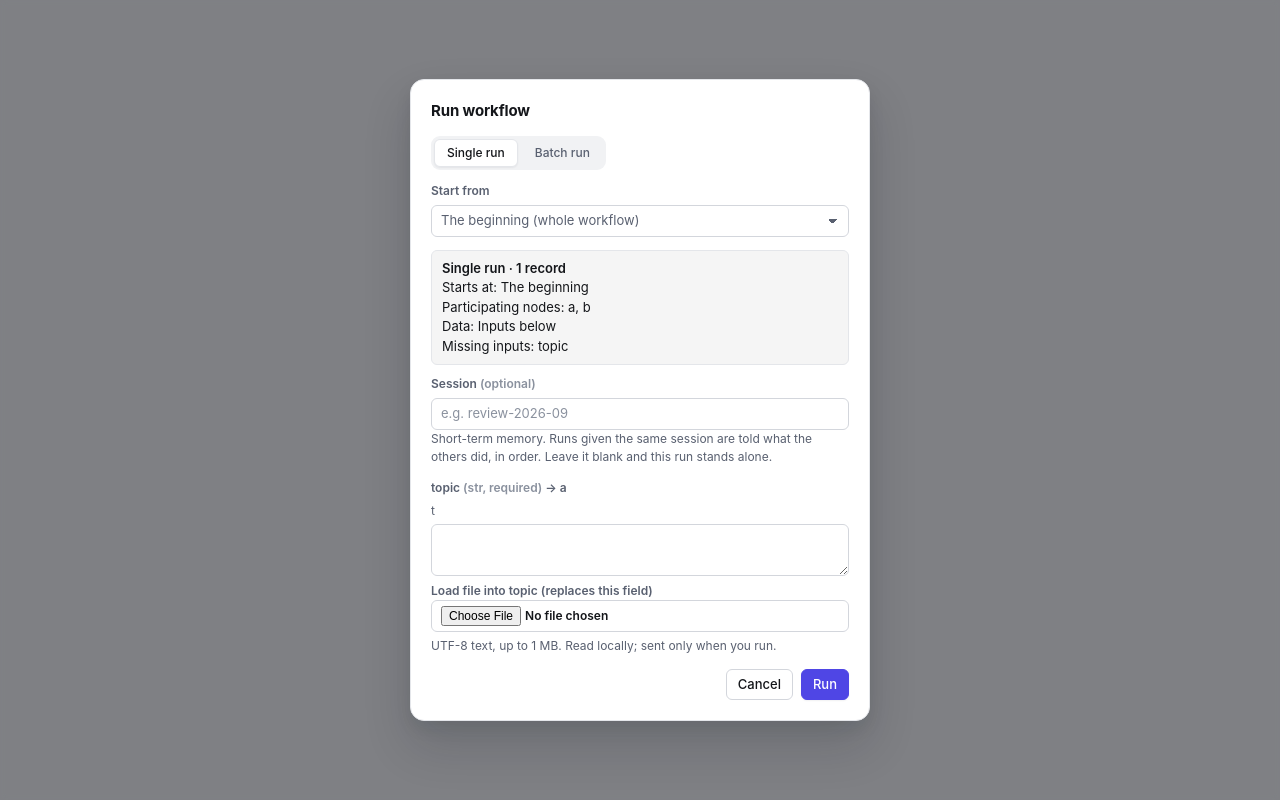
Test: the single run is planned before it is offered › drops a plan that arrives after a newer request was made
Select "b and everything after it" in the dropdown labelled "Start from". click: (640, 221)
box: top-left (431, 205), bottom-right (849, 237)
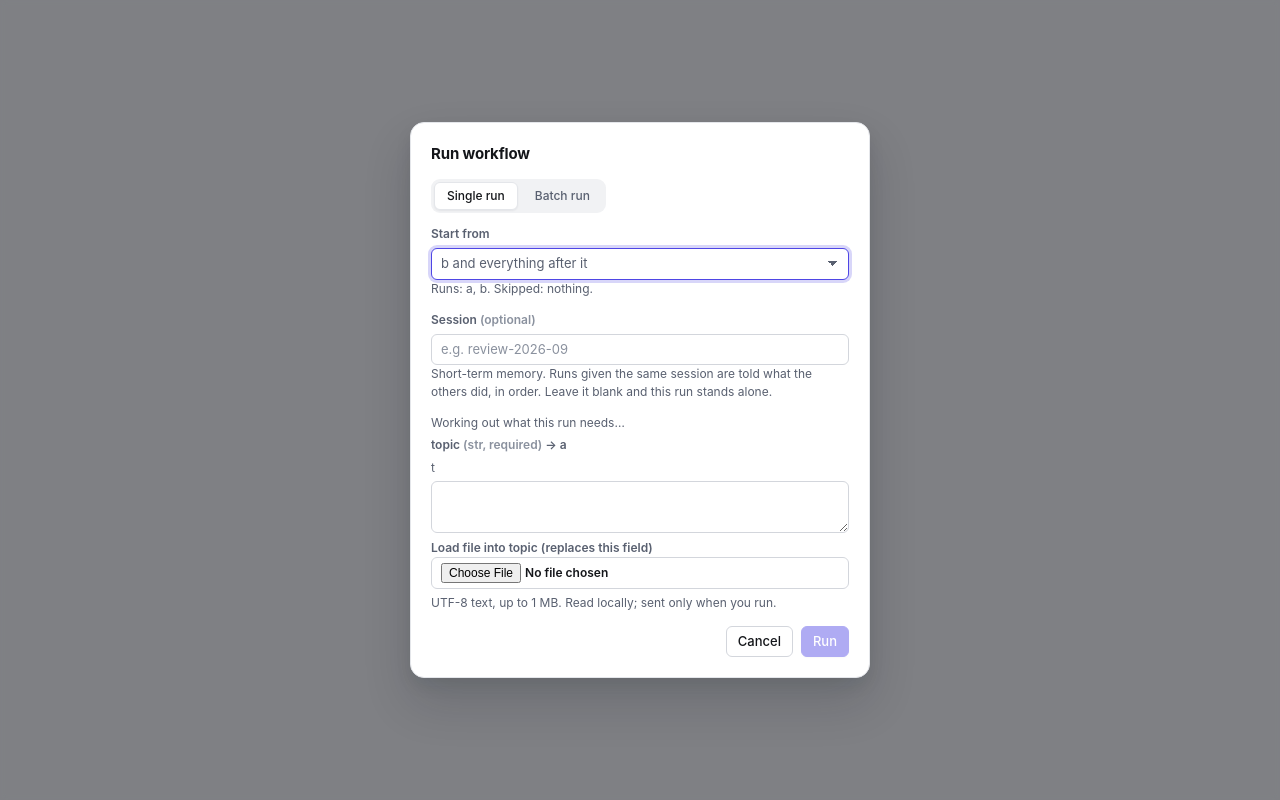
Select "a and everything after it" in the dropdown labelled "Start from". click: (640, 264)
box: top-left (431, 248), bottom-right (849, 280)
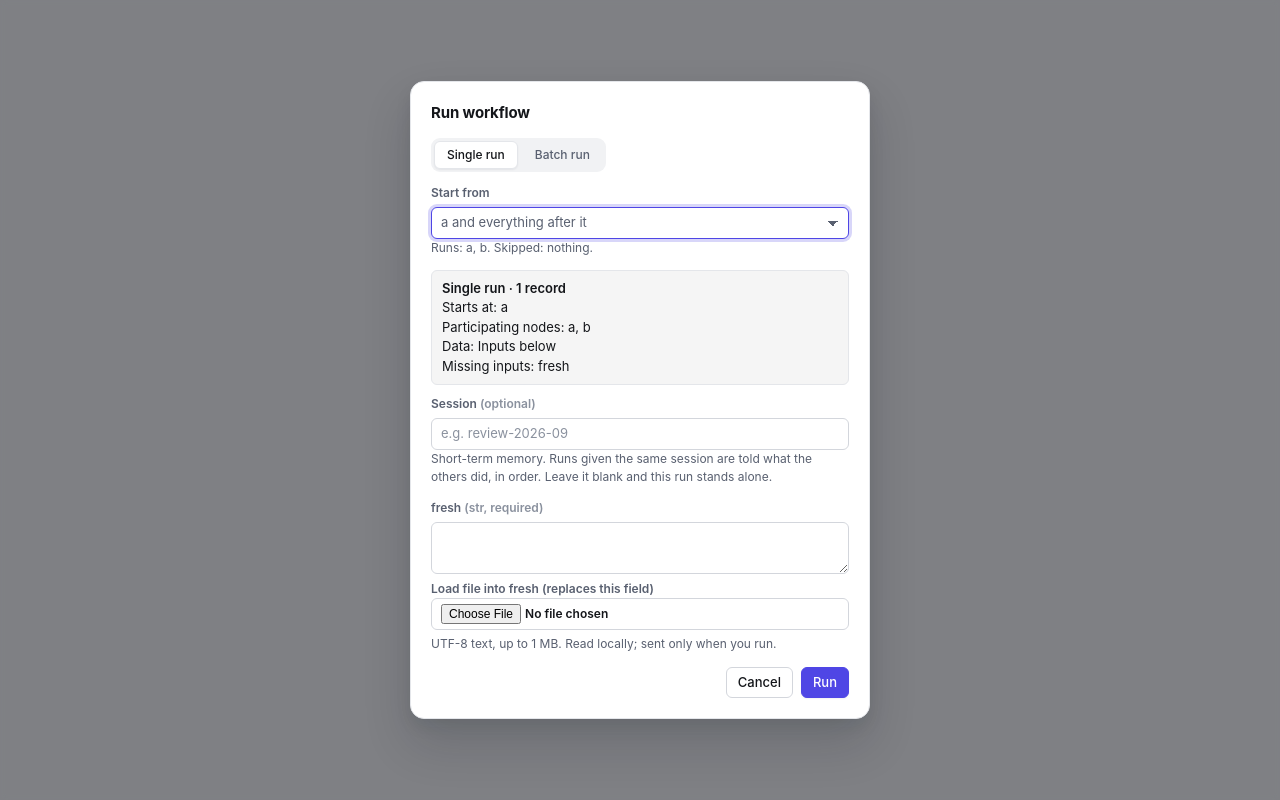
Check: the text box labelled "fresh (str, required)" is shown, box top-left (431, 522), bottom-right (849, 574)
